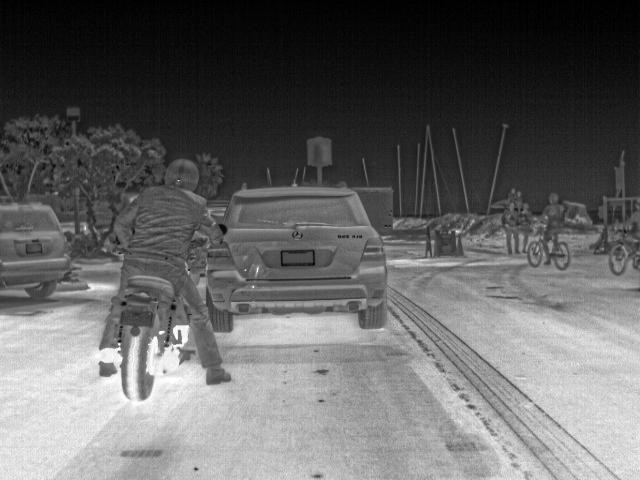car: (208, 180, 385, 334), (2, 199, 76, 300)
person: (93, 155, 235, 381), (538, 193, 565, 267), (503, 201, 523, 256), (519, 204, 533, 234)
